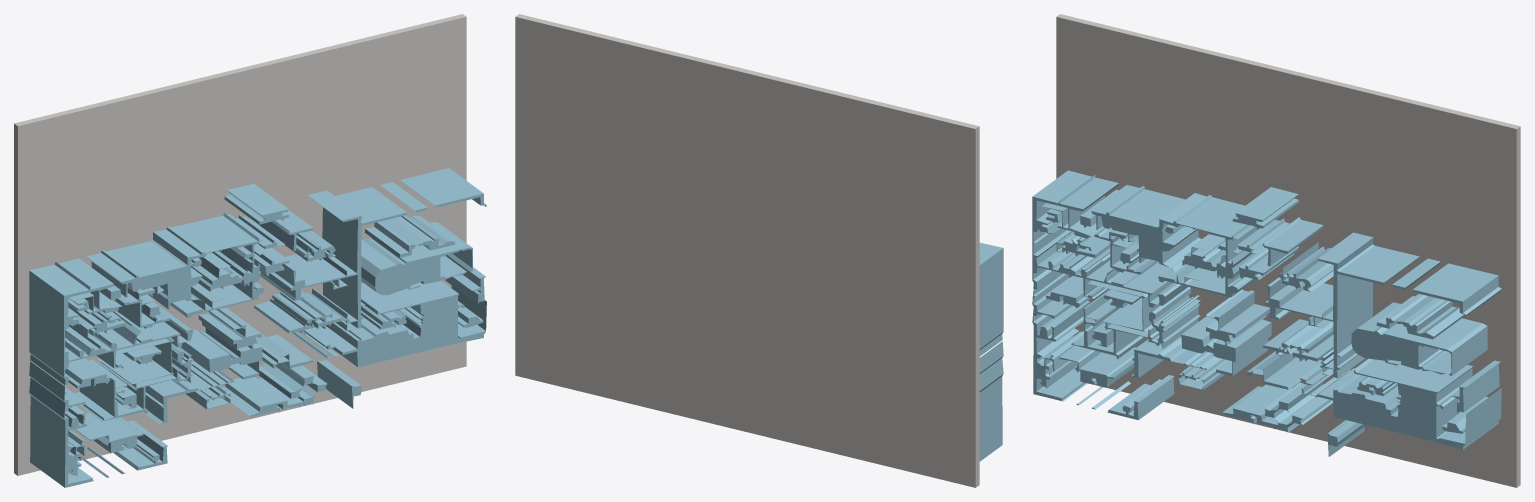
3 renders of one model, left to right at view 1: azimuth 30°, elevation 25°; view 2: azimuth 150°, elevation 25°; view 3: azimuth 330°, elevation 25°, orthographic. The views are drawn at different scales.
Parts seen in each view (by area): view 1: world; view 2: world; view 3: world.
Boxes of the visible parts, bbox=[...] form: world: bbox=[14, 14, 486, 487]; world: bbox=[515, 14, 1003, 487]; world: bbox=[1032, 14, 1520, 487].
Size of the model in its own units: 10.23 by 7.62 by 1.53.
